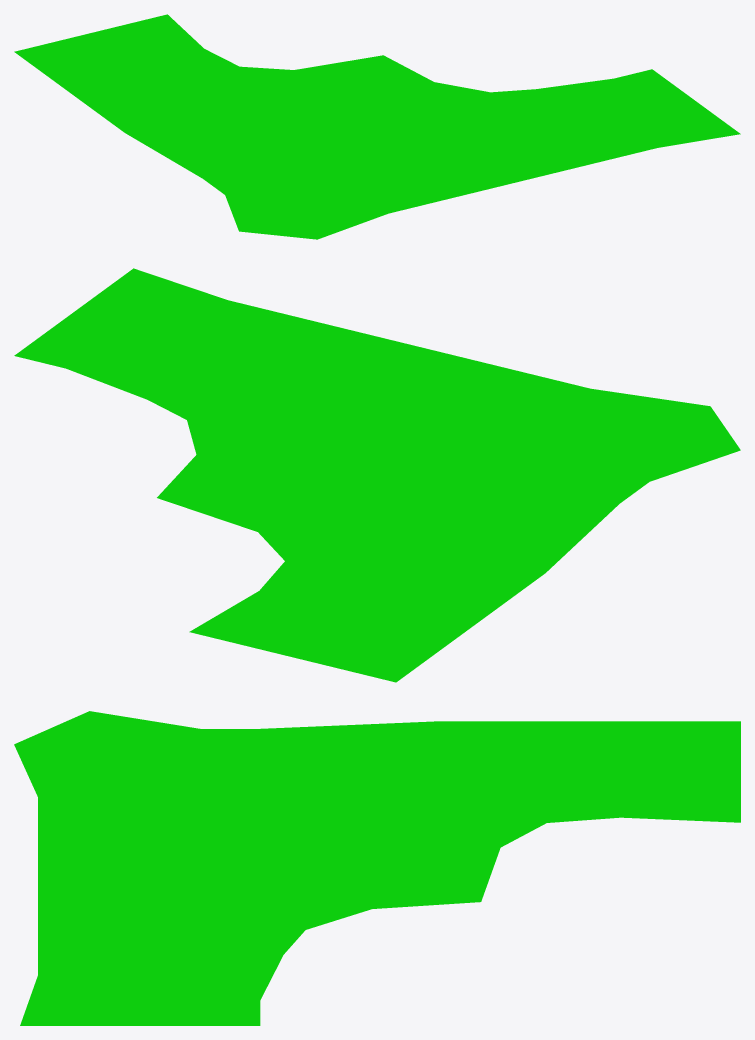
The picture shows the model from 3 angles, top to bottom: view 1: azimuth 30°, elevation 25°; view 2: azimuth 150°, elevation 25°; view 3: azimuth 270°, elevation 25°; orthographic projection. The views are drawn at different scales.
Parts seen in each view (by area): view 1: BG001_1027_00_c01; view 2: BG001_1027_00_c01; view 3: BG001_1027_00_c01.
Part boxes in pixels (x1,y1,x2,y2): BG001_1027_00_c01: [14, 14, 740, 239]; BG001_1027_00_c01: [14, 268, 740, 682]; BG001_1027_00_c01: [14, 711, 740, 1025].
Bounding box in the file's own units: 1240 × 0 × 1210.
